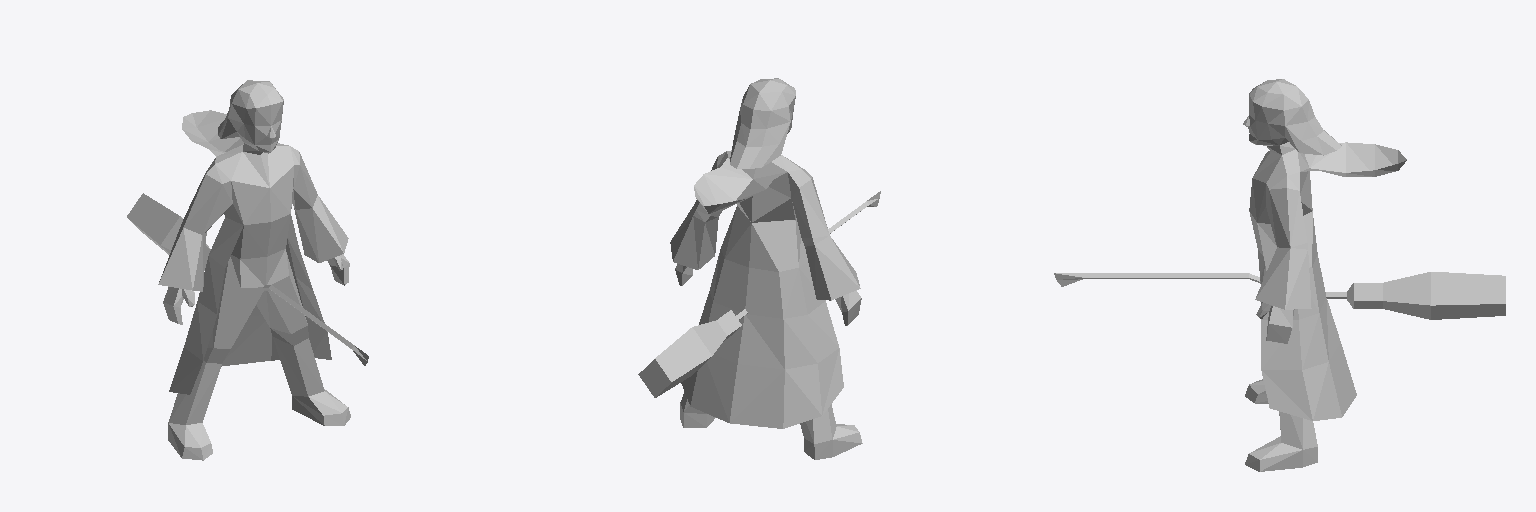
The model's file is N.P.C_Female Student_Gryffindor Quidditch Player.obj.
The picture shows the model from 3 angles: view 1: azimuth 30°, elevation 25°; view 2: azimuth 150°, elevation 25°; view 3: azimuth 270°, elevation 25°; orthographic projection.
Bounding box in the file's own units: 0.4544 × 0.7951 × 0.9335.